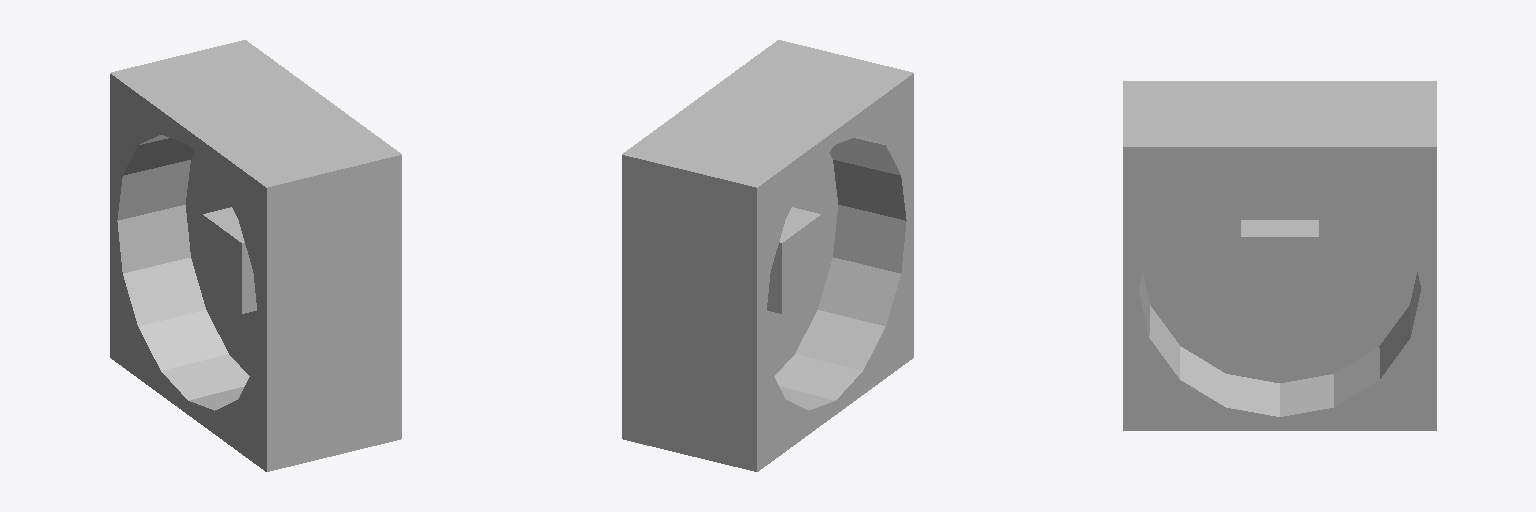
The model's file is ruins_fan_large.obj.
The picture shows the model from 3 angles: view 1: azimuth 30°, elevation 25°; view 2: azimuth 150°, elevation 25°; view 3: azimuth 270°, elevation 25°; orthographic projection.
Parts seen in each view (by area): view 1: fan_large_Cube; view 2: fan_large_Cube; view 3: fan_large_Cube.
Part boxes in pixels (left/top/right/bottom): fan_large_Cube: left=110, top=40, right=401, bottom=471; fan_large_Cube: left=622, top=40, right=913, bottom=471; fan_large_Cube: left=1123, top=81, right=1436, bottom=430.
Bounding box in the file's own units: 1 × 2 × 2.